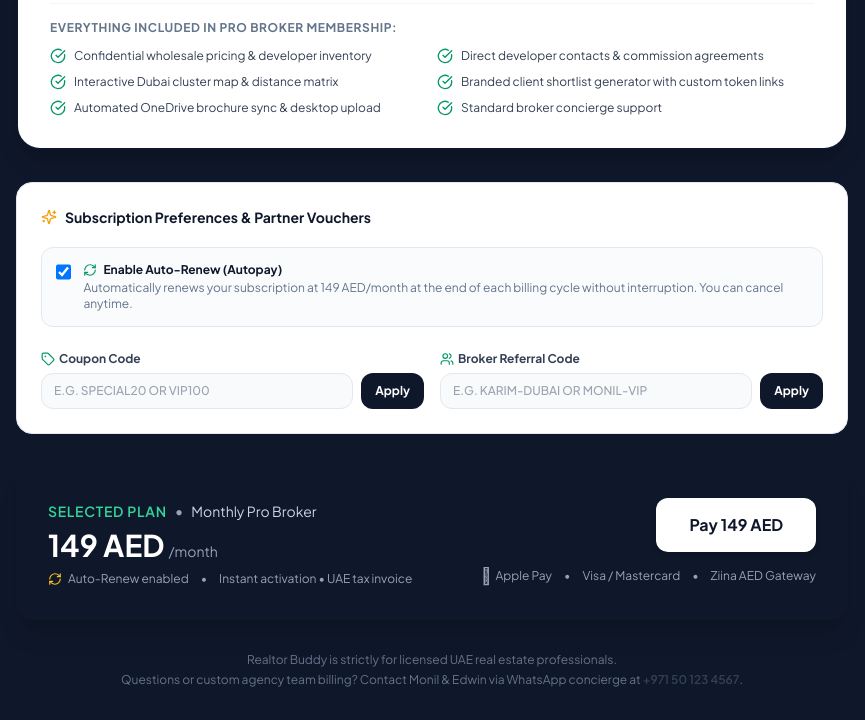
Scenario: SubscriptionPage Component › applying coupon discount SPECIAL20 updates displayed checkout price to 119 AED
(page scrolled)
Expected: the button "Pay 149 AED" is shown, left=656, top=498, right=816, bottom=552
Type "SPECIAL20" into the field with placeholder "e.g. SPECIAL20 or VIP100".
click(197, 390); type("SPECIAL20")  # box left=41, top=372, right=353, bottom=408
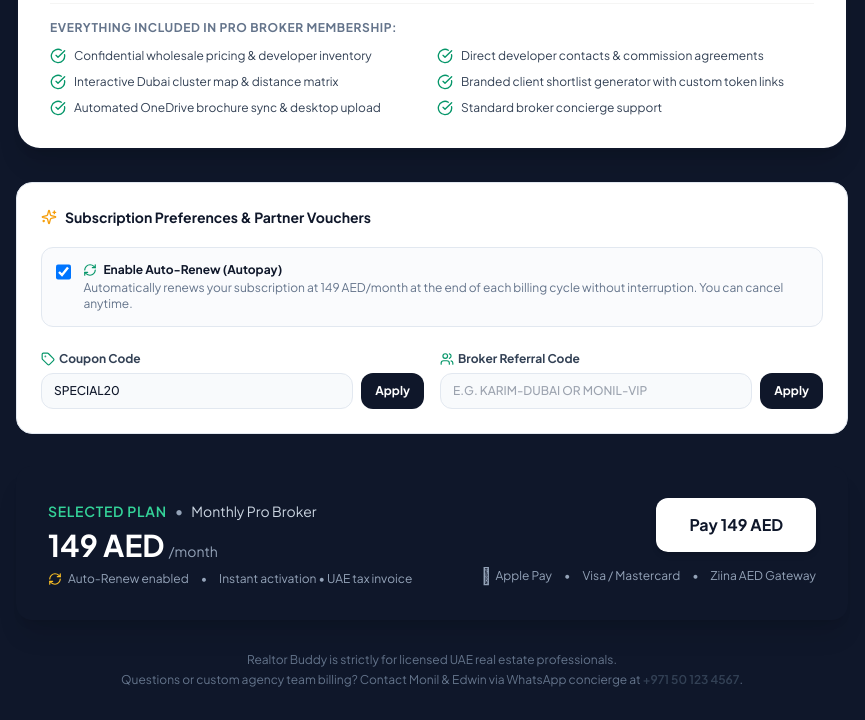
Click the button "Apply" below "Coupon Code".
click(393, 390)  # box left=361, top=372, right=424, bottom=408
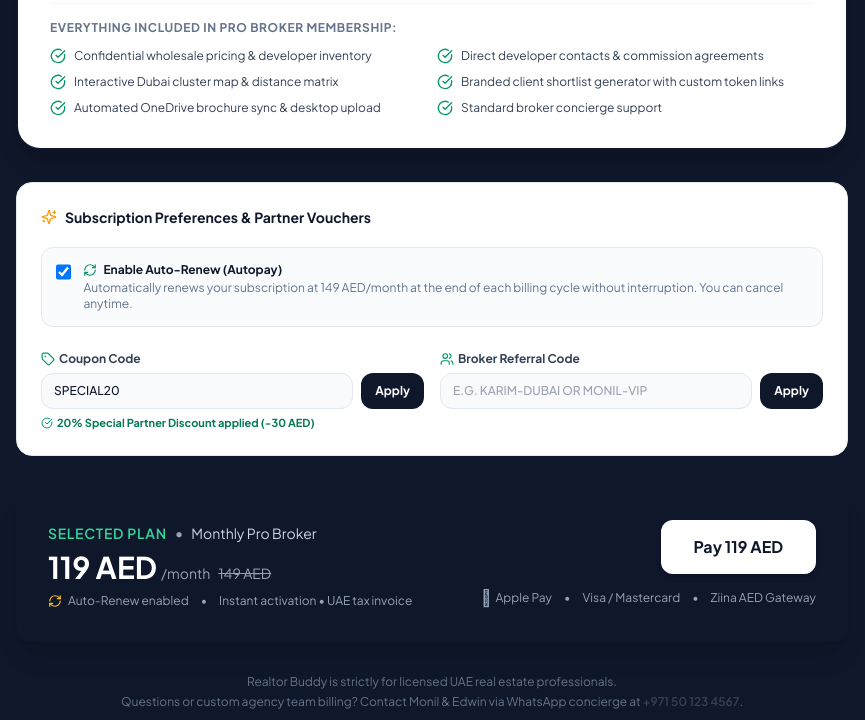
Expected: the text "20% Special Partner Discount applied (-30 AED)" is shown, left=57, top=414, right=315, bottom=431
Expected: the button "Pay 119 AED" is shown, left=660, top=520, right=816, bottom=574
